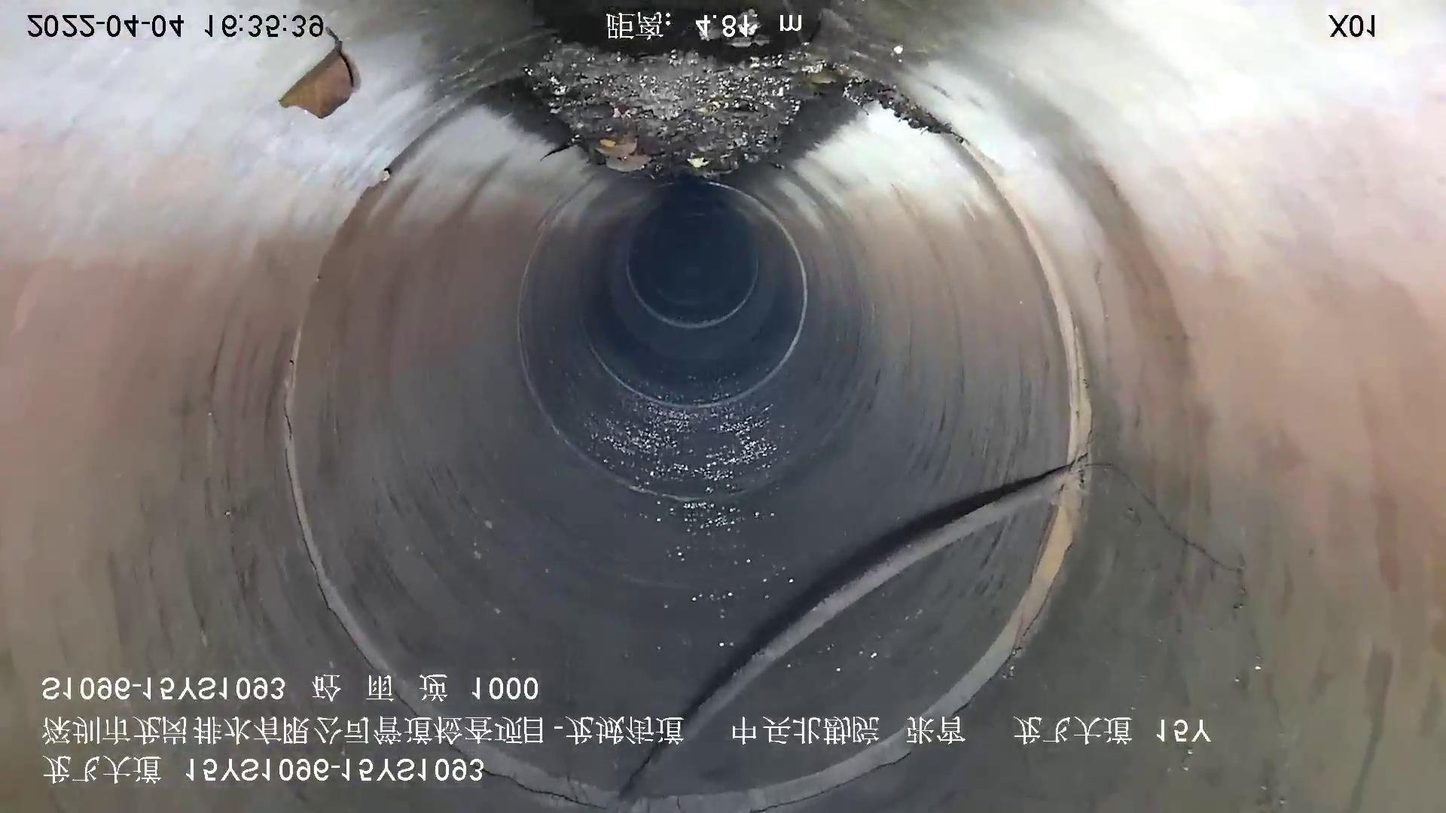CJ: (523, 11, 945, 178)
CKTJ: (272, 51, 1102, 813)
YWCR: (610, 460, 1095, 811)
